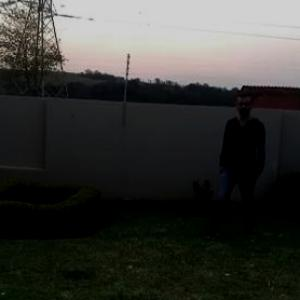follow: (219, 91, 268, 240)
